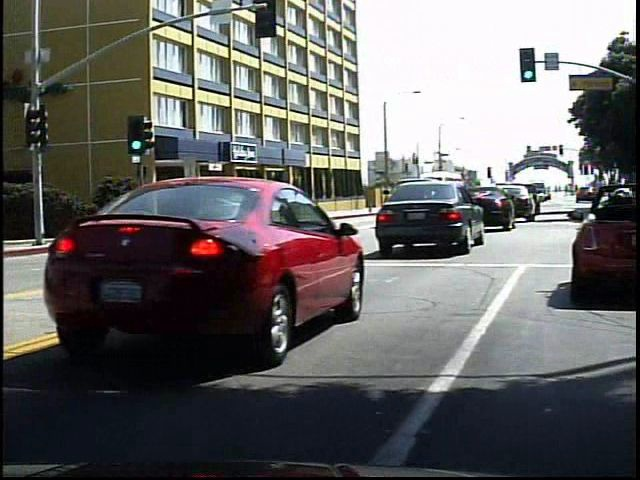person: (285, 186, 304, 226)
